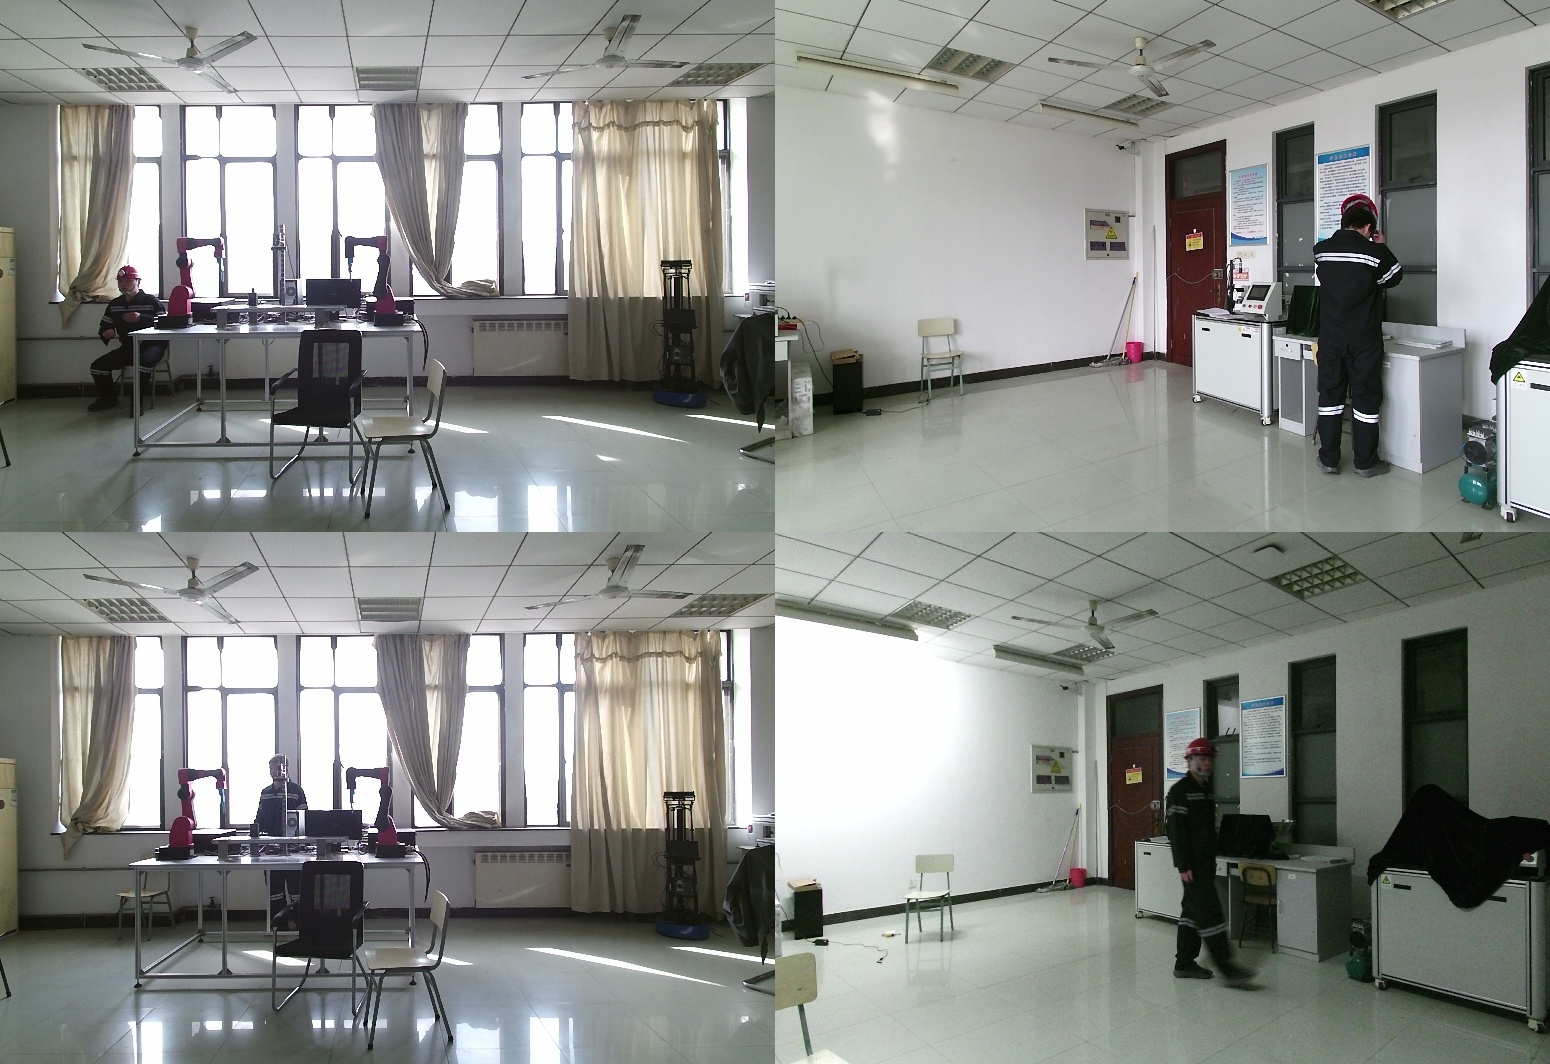person: (1311, 199, 1425, 479), (1158, 739, 1226, 981), (82, 265, 179, 413), (255, 757, 319, 931)
